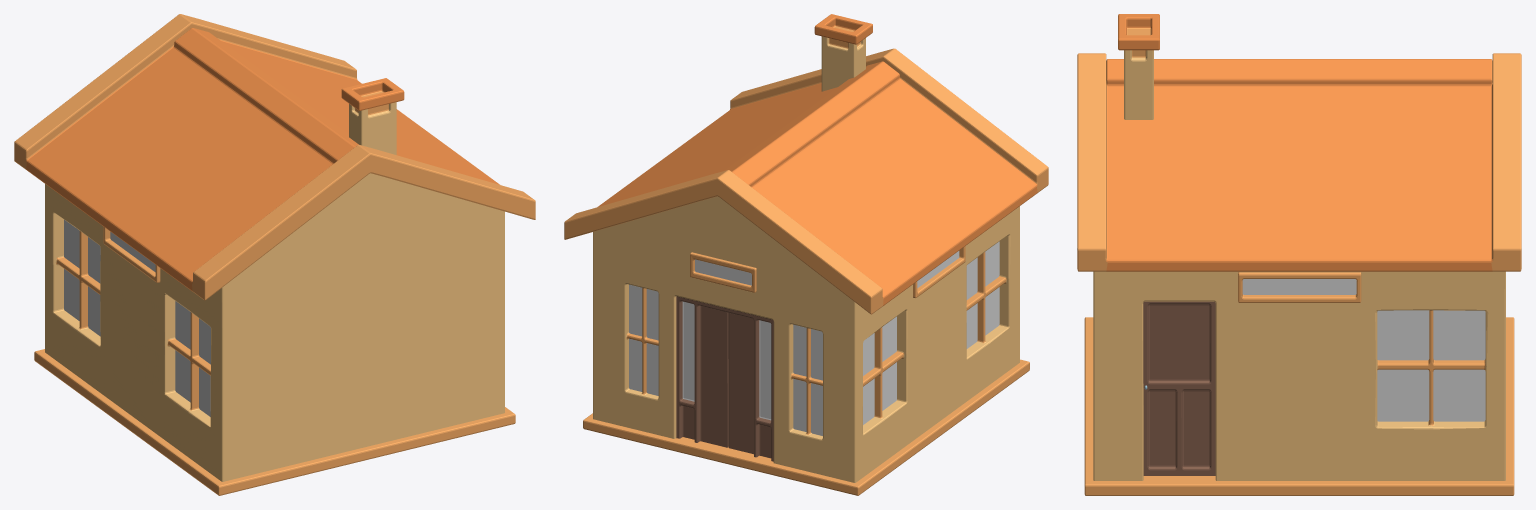
Rendered from home_1.1.1.fbx.
The picture shows the model from 3 angles, left to right: view 1: azimuth 30°, elevation 25°; view 2: azimuth 150°, elevation 25°; view 3: azimuth 270°, elevation 25°; orthographic projection. The views are drawn at different scales.
Parts seen in each view (by area): view 1: Building_05; view 2: Building_05; view 3: Building_05.
Boxes of the visible parts, x1,y1,x2,y2 form: Building_05: (14,14,535,495); Building_05: (564,14,1048,495); Building_05: (1077,14,1521,495).
Bounding box in the file's own units: 80 × 80 × 80.
